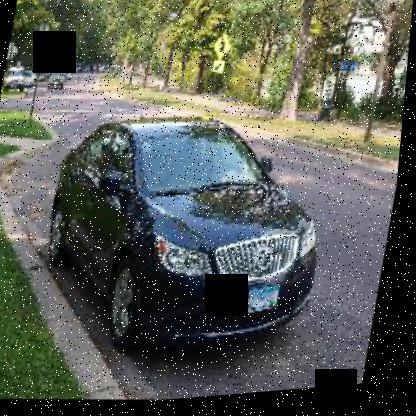not_emergency: (29, 98, 352, 369)
